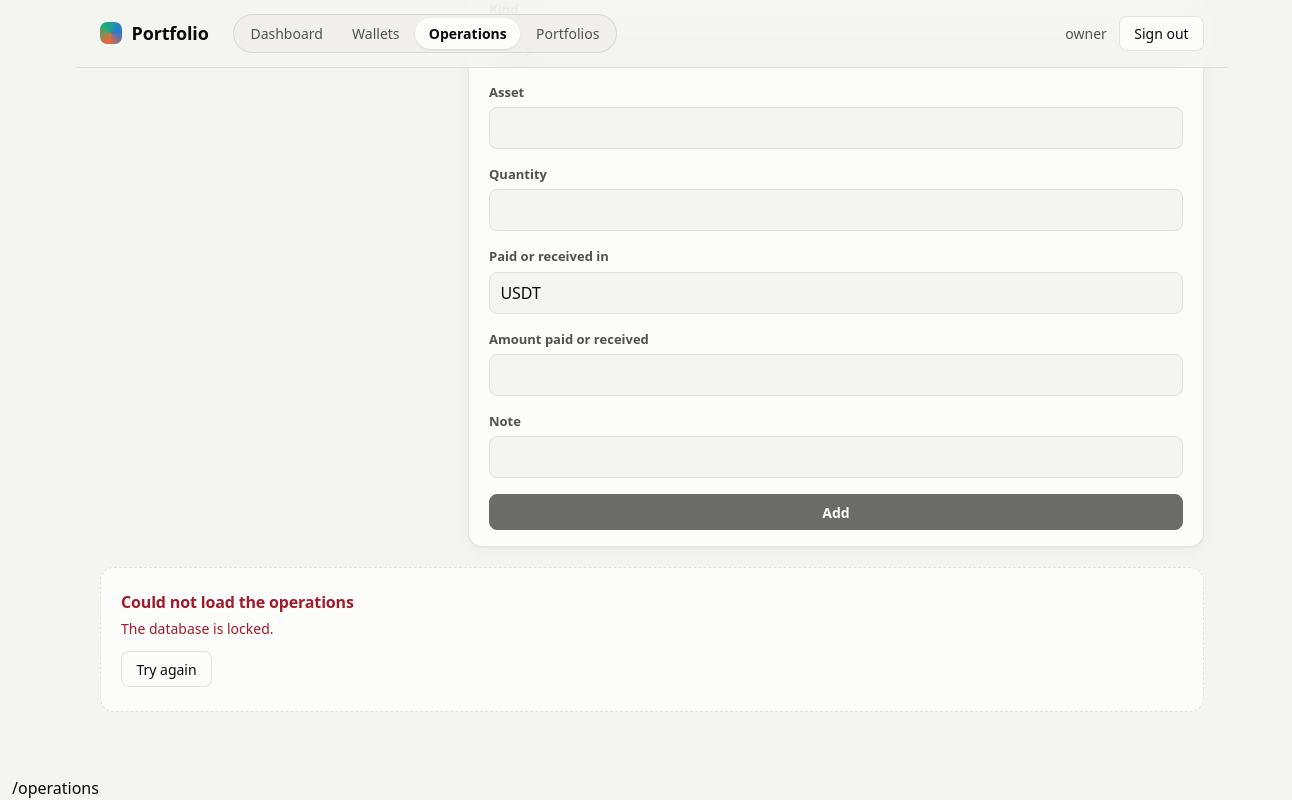
OperationsPage: the table › says what failed and loads again on request
(page scrolled)
Check: the message shows "Could not load the operations", box [121, 591, 354, 613]
Check: the message shows "The database is locked.", box [121, 619, 274, 638]
Click the button "Try again": {"x": 166, "y": 669} [121, 651, 212, 687]
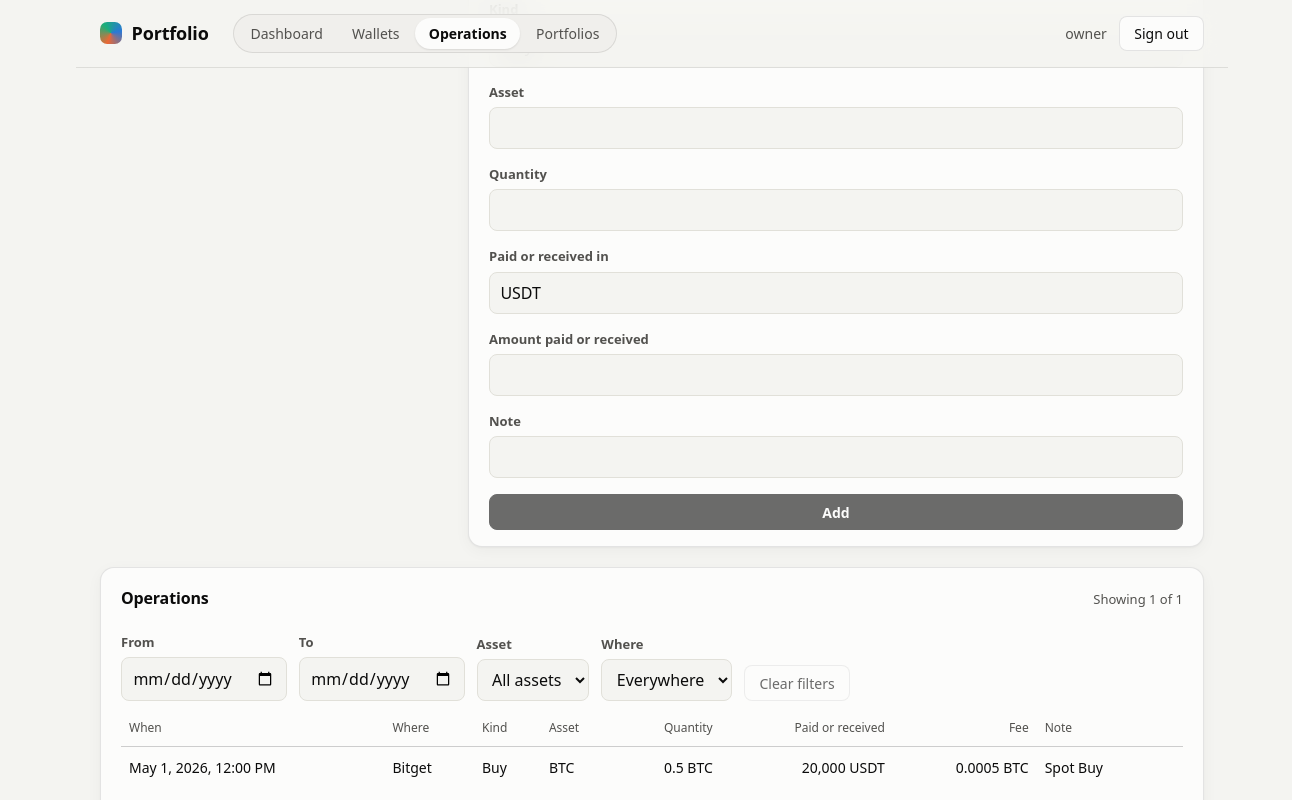
Check: the table is shown, box [121, 709, 1183, 787]
